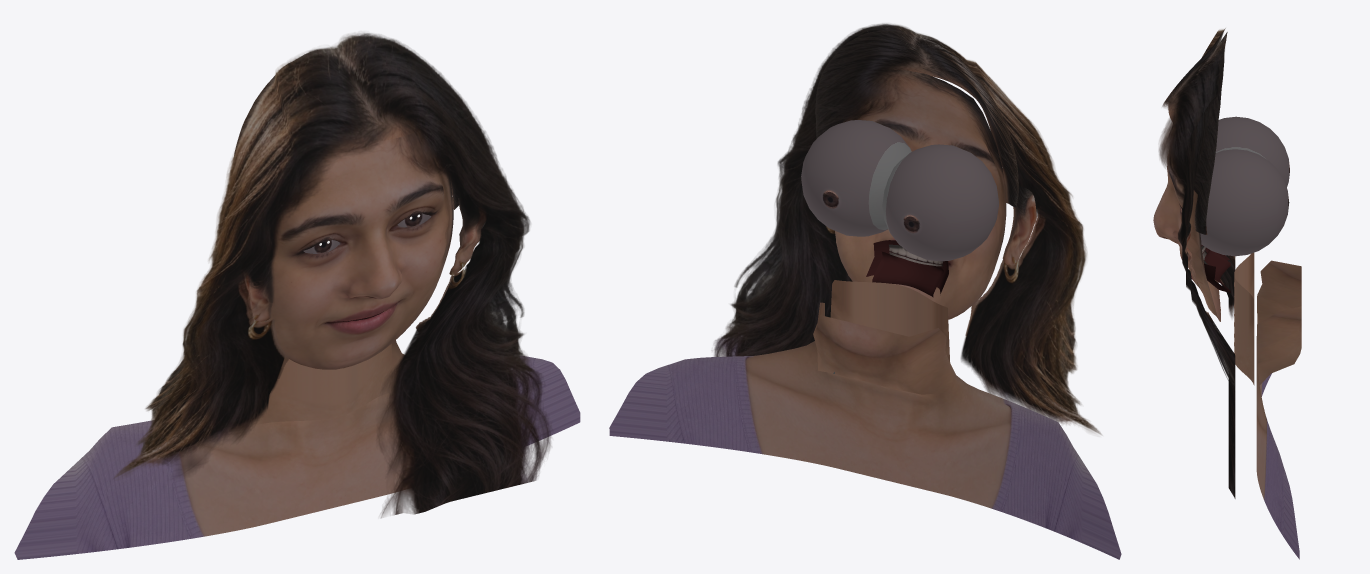
File: tanvi.glb
The picture shows the model from 3 angles, left to right: view 1: azimuth 30°, elevation 25°; view 2: azimuth 150°, elevation 25°; view 3: azimuth 270°, elevation 25°; orthographic projection. The views are drawn at different scales.
Visible parts, largest first — view 1: HairLayer, Body, Head, Neck, Ears, Hair; view 2: Body, HairLayer, Head, Eye_L, Eye_R, Hair, Neck, Tongue, Ears, Cavity; view 3: HairLayer, Body, Eye_R, Head, Eye_L, Neck, Hair, Tongue, Cavity.
Boxes of the visible parts, left/top/right/bottom form: HairLayer: left=114, top=33, right=551, bottom=517; Body: left=14, top=340, right=580, bottom=559; Head: left=264, top=133, right=453, bottom=369; Neck: left=257, top=308, right=393, bottom=424; Ears: left=246, top=198, right=484, bottom=321; Hair: left=234, top=50, right=460, bottom=209; Body: left=609, top=302, right=1121, bottom=559; HairLayer: left=714, top=23, right=1101, bottom=434; Head: left=834, top=69, right=1006, bottom=319; Eye_L: left=882, top=144, right=998, bottom=261; Eye_R: left=801, top=120, right=911, bottom=236; Hair: left=815, top=30, right=1018, bottom=207; Neck: left=830, top=280, right=950, bottom=362; Tongue: left=872, top=251, right=943, bottom=297; Ears: left=1002, top=185, right=1036, bottom=264; Cavity: left=866, top=240, right=948, bottom=293; HairLayer: left=1159, top=28, right=1235, bottom=498; Body: left=1256, top=260, right=1301, bottom=559; Eye_R: left=1182, top=149, right=1289, bottom=256; Head: left=1153, top=159, right=1220, bottom=321; Eye_L: left=1215, top=116, right=1289, bottom=187; Neck: left=1234, top=252, right=1254, bottom=385; Hair: left=1168, top=32, right=1227, bottom=234; Tongue: left=1204, top=249, right=1230, bottom=292; Cavity: left=1201, top=245, right=1229, bottom=292.
Bounding box in the file's own units: 2.41 × 2.06 × 0.9123.
Materials: 9 (8 with a texture image).
